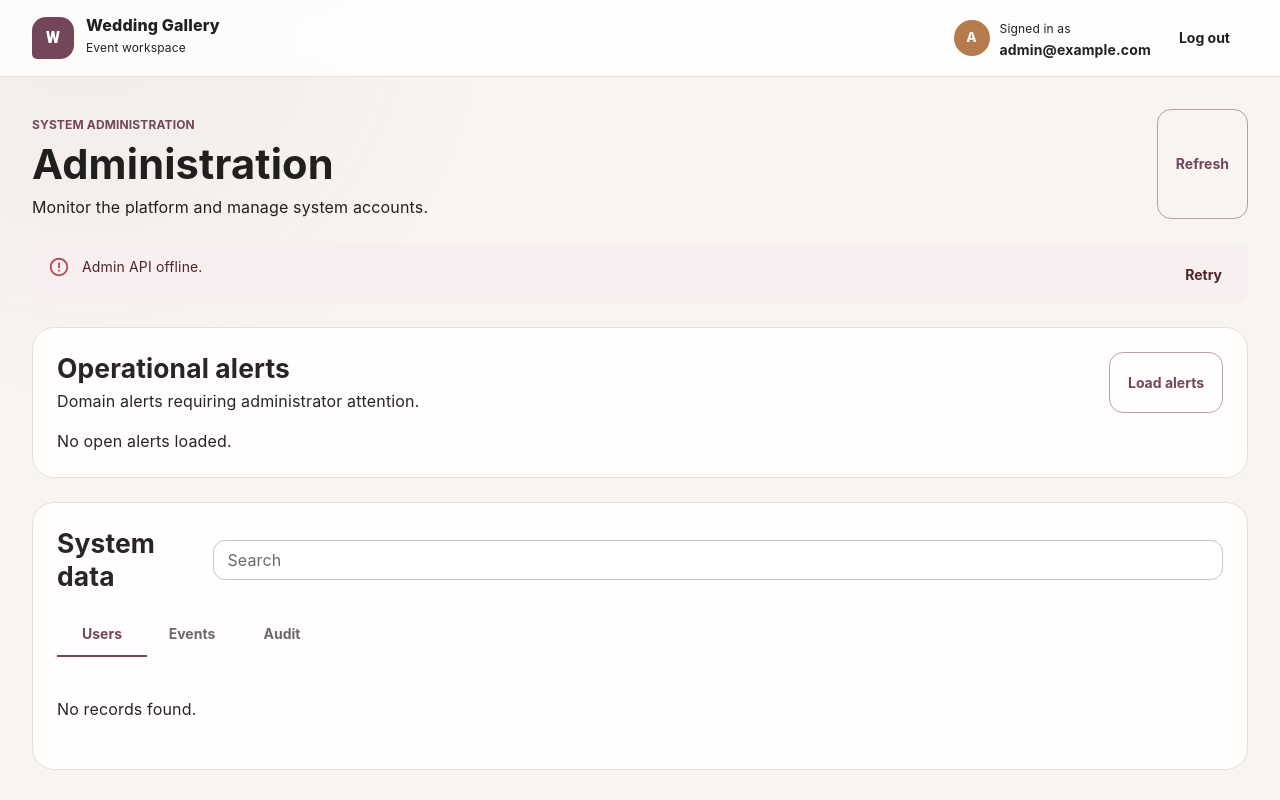
Test: AdminDashboard › shows an error and retries the full administrative load
Expected: the message shows "Admin API offline.", [82,258,203,276]
Click the button "Retry" at (1204, 276), box [1167,254,1240,298]
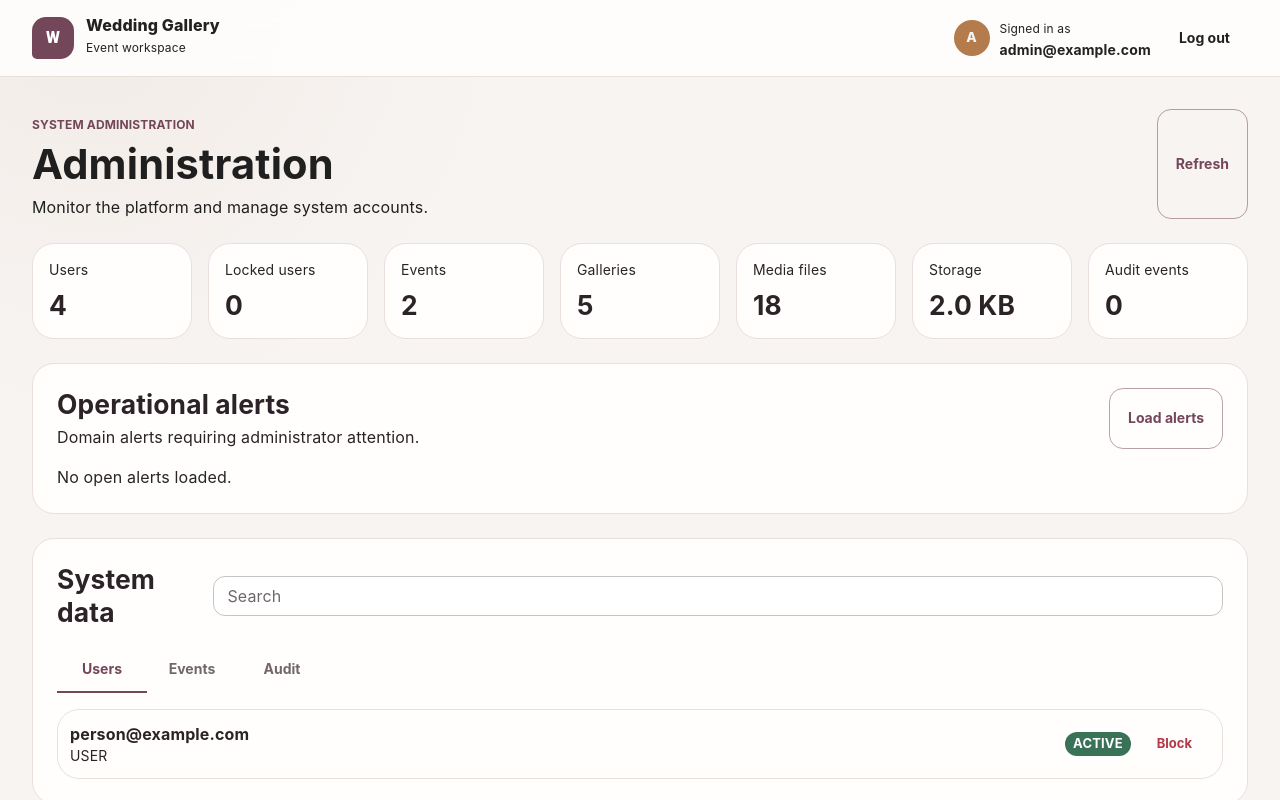
Expected: the text "person@example.com" is shown, [70,722,249,746]
